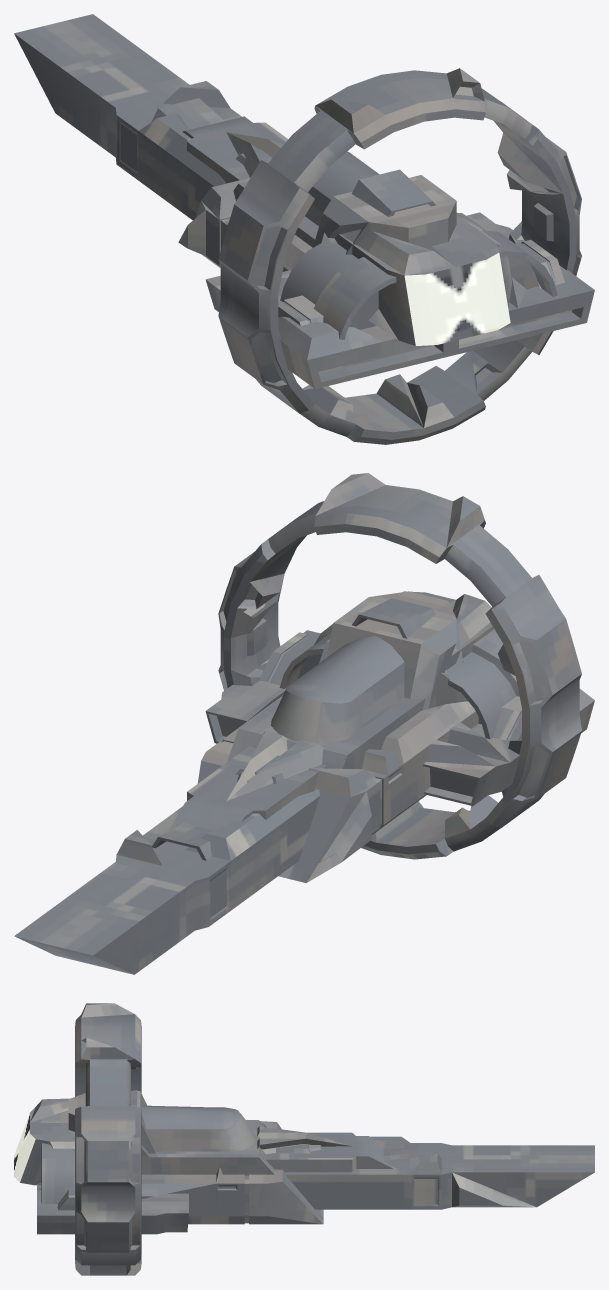
The model's file is zenith.glb.
The picture shows the model from 3 angles, top to bottom: view 1: azimuth 30°, elevation 25°; view 2: azimuth 150°, elevation 25°; view 3: azimuth 270°, elevation 25°; orthographic projection. The views are drawn at different scales.
Visible parts, largest first — view 1: Ship; view 2: Ship; view 3: Ship.
Part boxes in pixels (left/top/right/bottom): Ship: left=14, top=14, right=594, bottom=444; Ship: left=14, top=473, right=594, bottom=974; Ship: left=14, top=1003, right=594, bottom=1275.
Size of the model in its own units: 4.2 by 4.14 by 9.
Materials: 1 (1 with a texture image).
